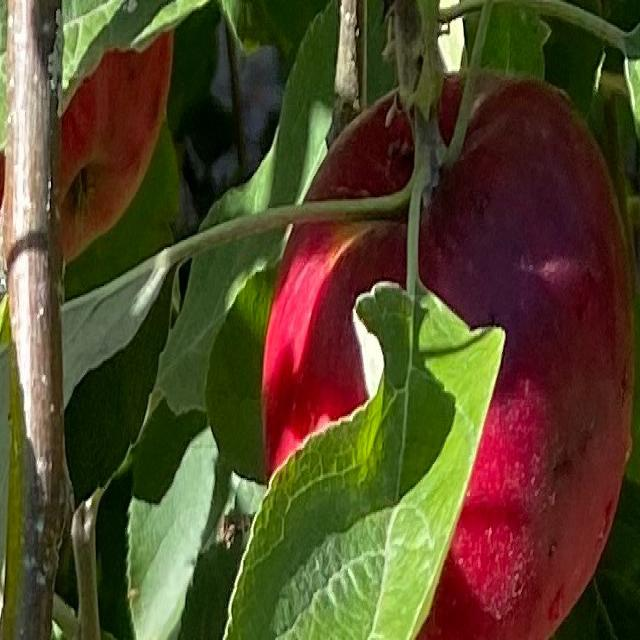Apples: (260, 71, 632, 638), (0, 26, 172, 258)
